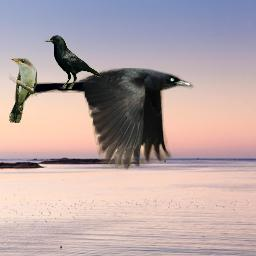Crow: (22, 66, 195, 170), (44, 35, 101, 89)
Cuckoo: (9, 58, 37, 123)
